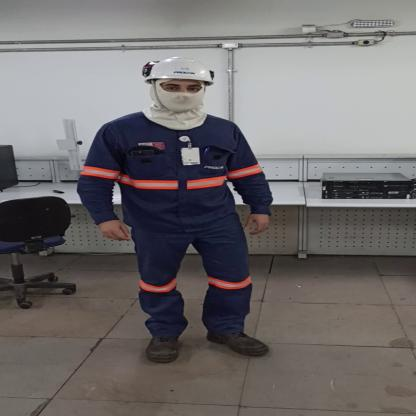Balaclava: (133, 80, 215, 131)
Capacete: (138, 54, 225, 86)
